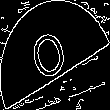O_SE: (32, 22, 78, 88)
